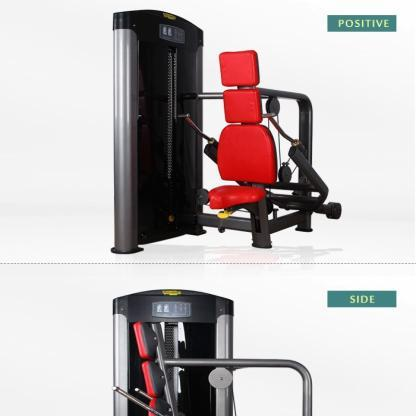seated dip machine: (109, 49, 342, 256)
